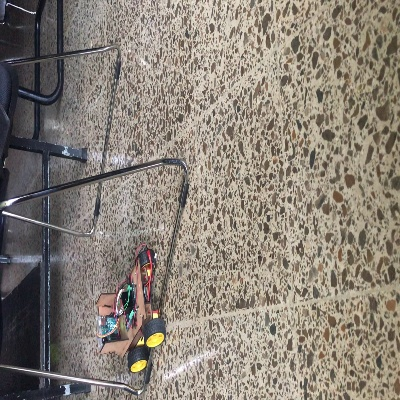Robot: (96, 248, 165, 373)
